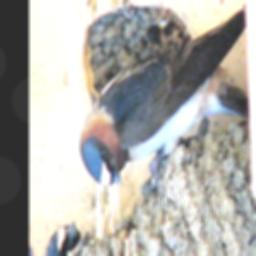Swallow: (73, 0, 249, 190)
